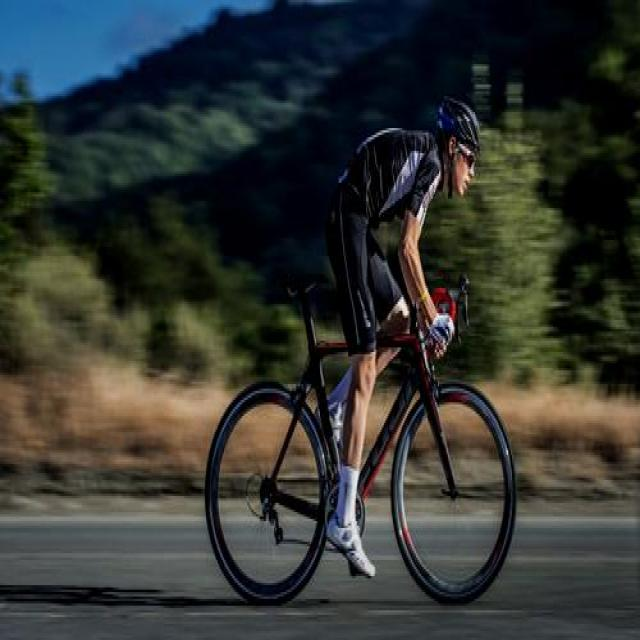bikerider: (193, 73, 525, 629)
